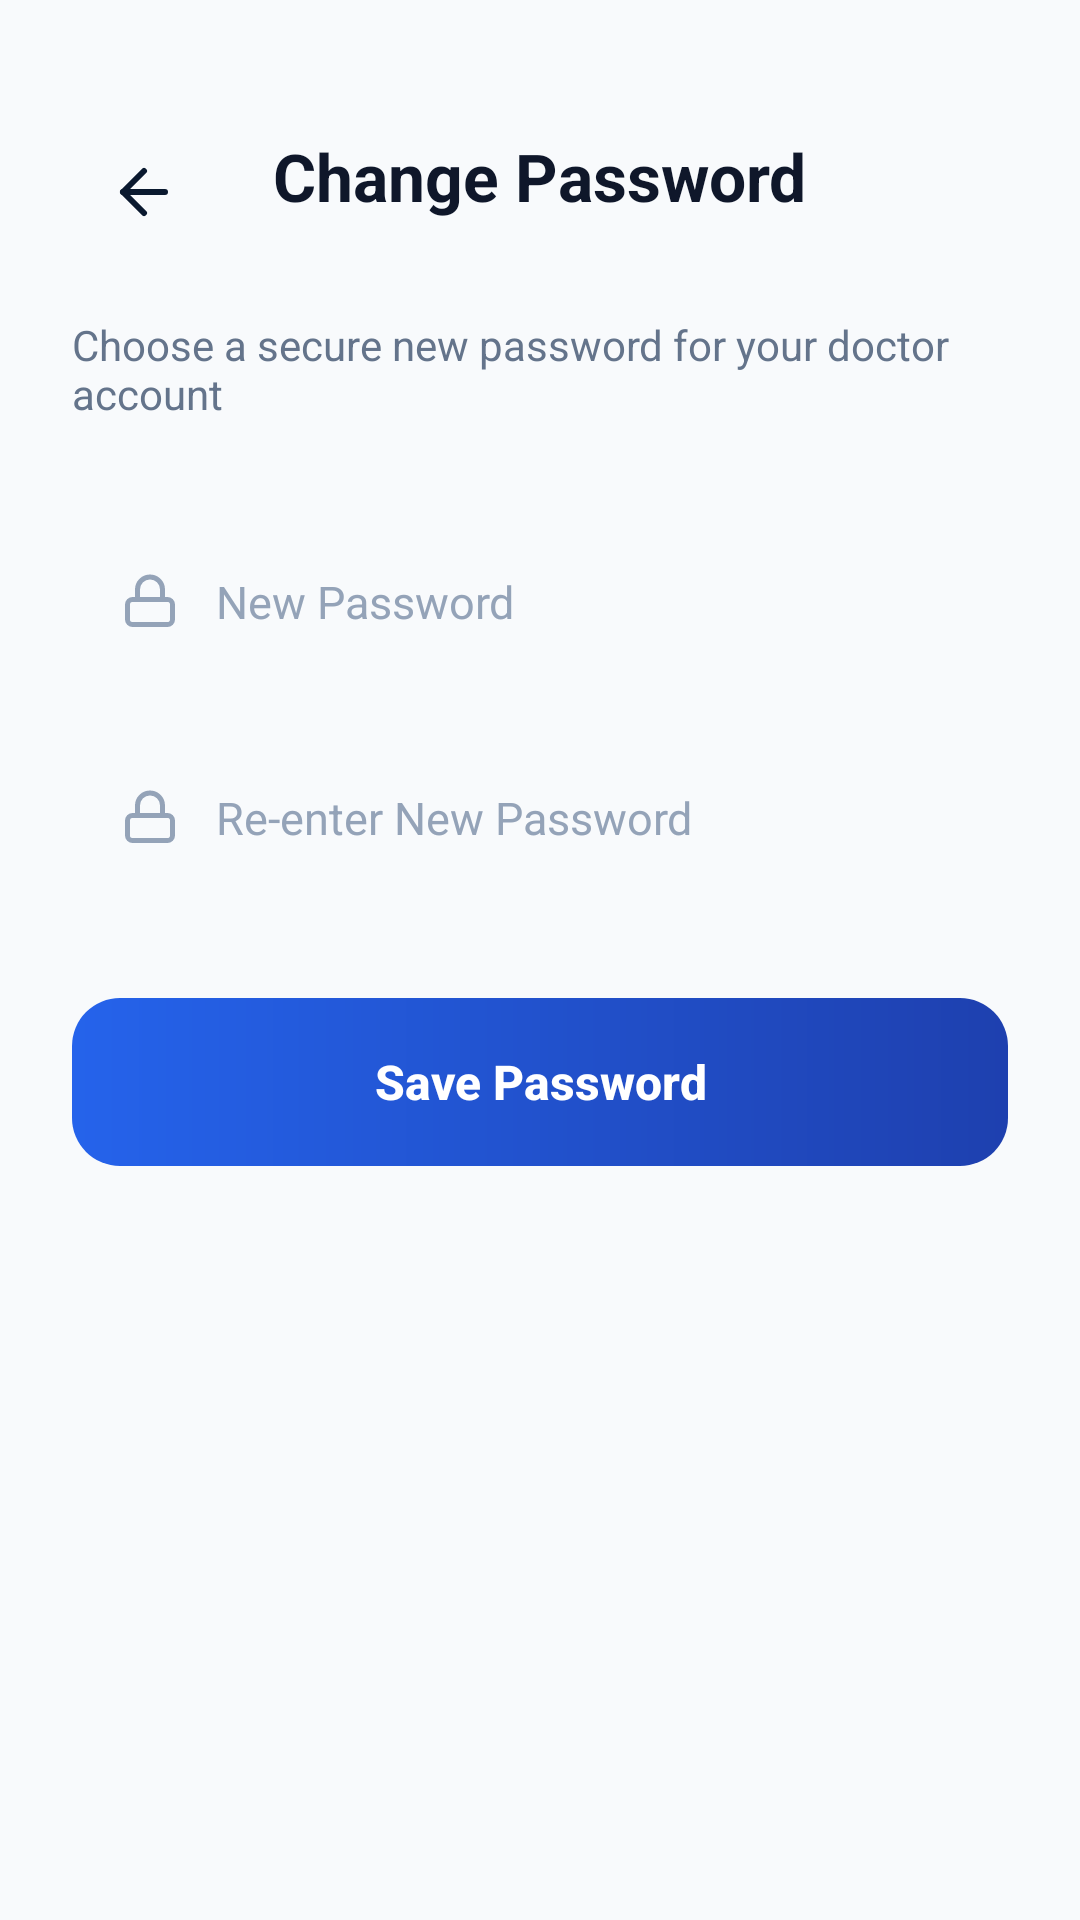

Icon bounding boxes for this 1080px×1920px phone screenshot, format (x1, y1, x2, y2):
arrow back: (120, 168, 168, 216)
